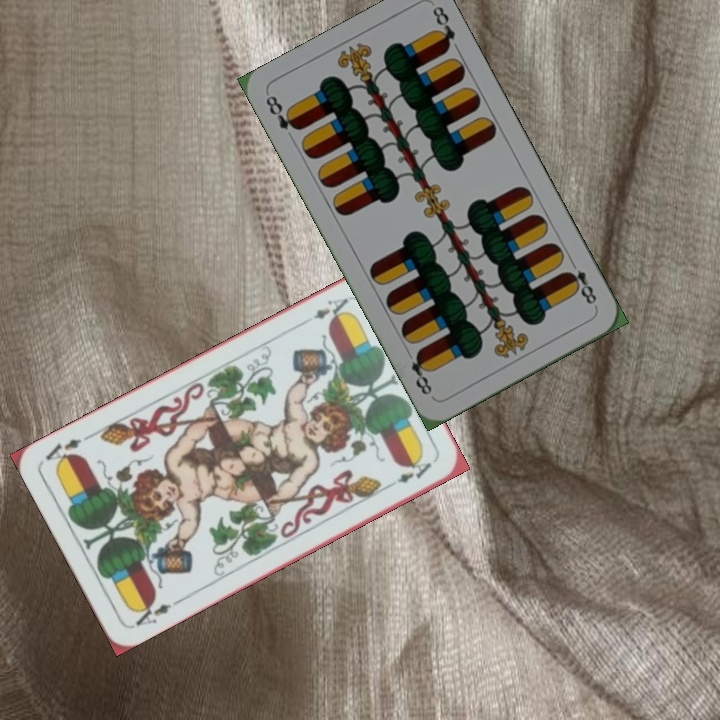E8: (561, 256, 600, 311), (261, 91, 303, 133)
EA: (296, 293, 352, 329), (128, 595, 183, 629)
